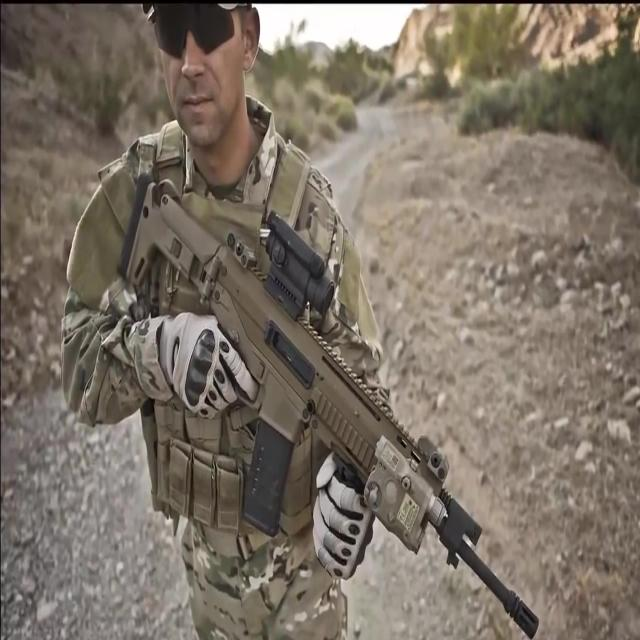Weapon: (105, 146, 551, 640)
